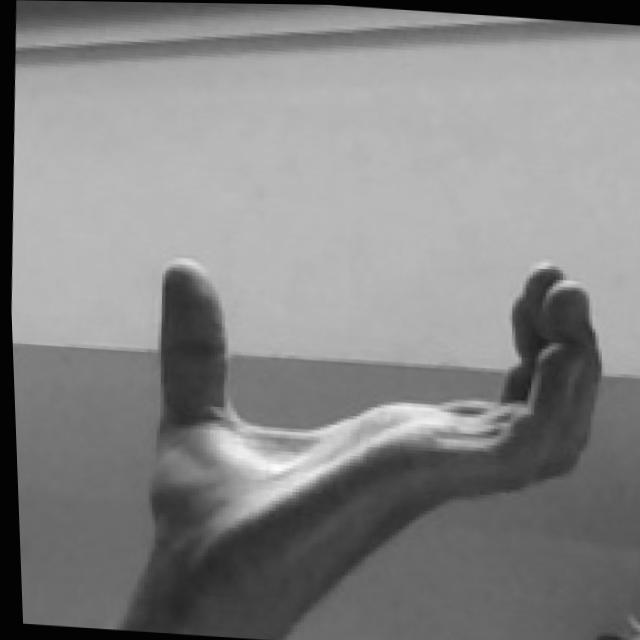space: (133, 238, 620, 603)
